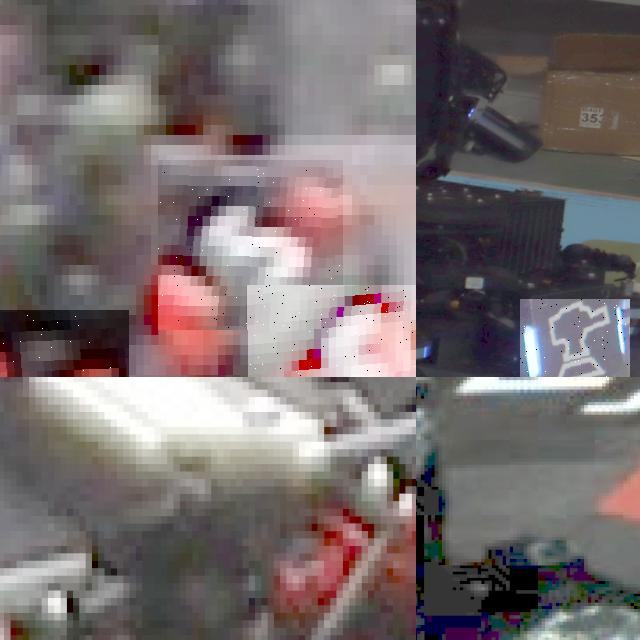Bs: (519, 299, 630, 377)
R5: (158, 160, 344, 330), (248, 285, 416, 377), (0, 310, 129, 377)
